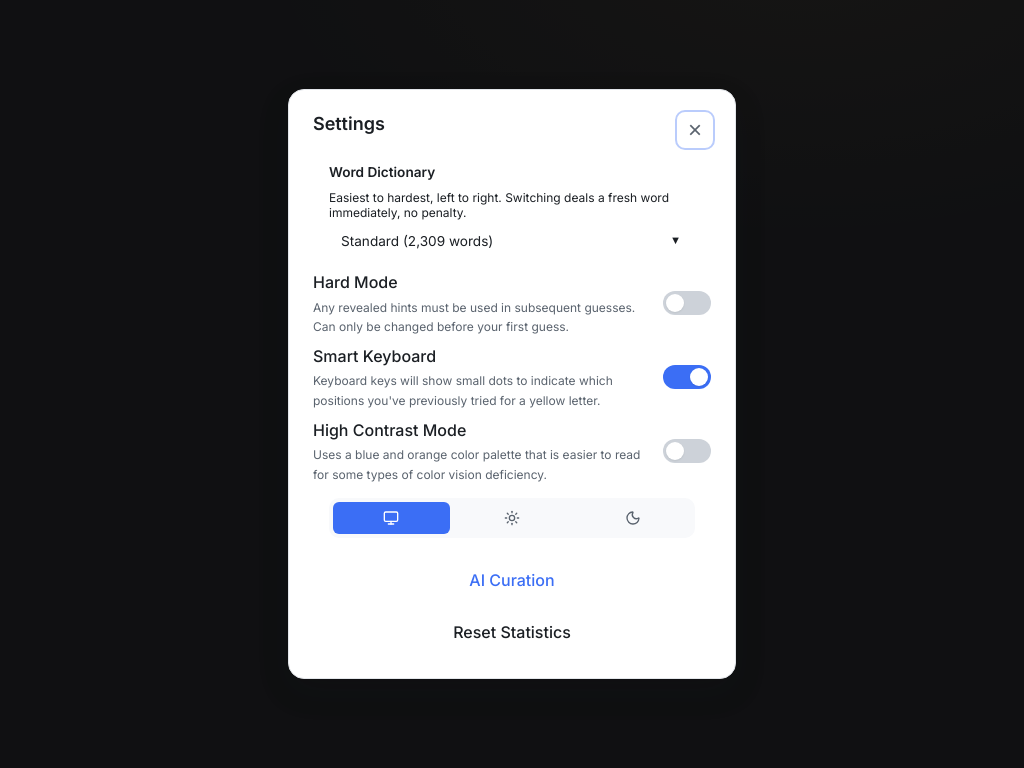
Test: Settings component › reports a curation timeout distinctly from a user cancel
Click the button "AI Curation" at (512, 580), box x1=444 y1=558 x2=580 y2=602
(page scrolled)
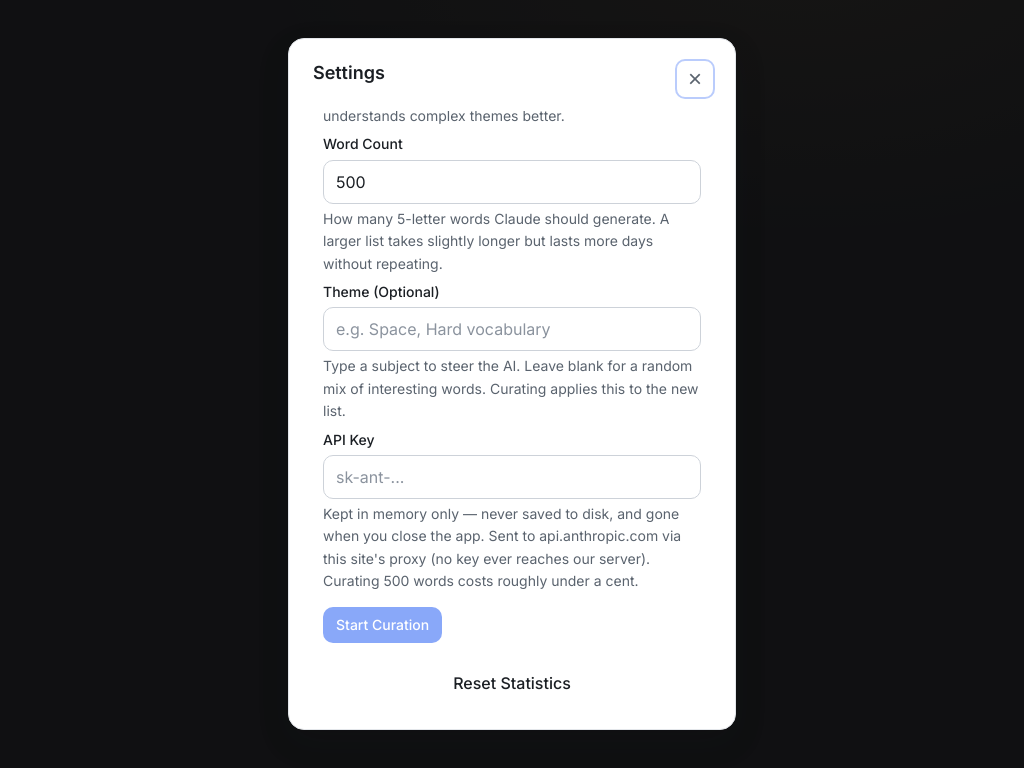
Type "sk-ant-test-key" into the password field with placeholder "sk-ant-..." at (512, 477), box x1=323 y1=455 x2=701 y2=499
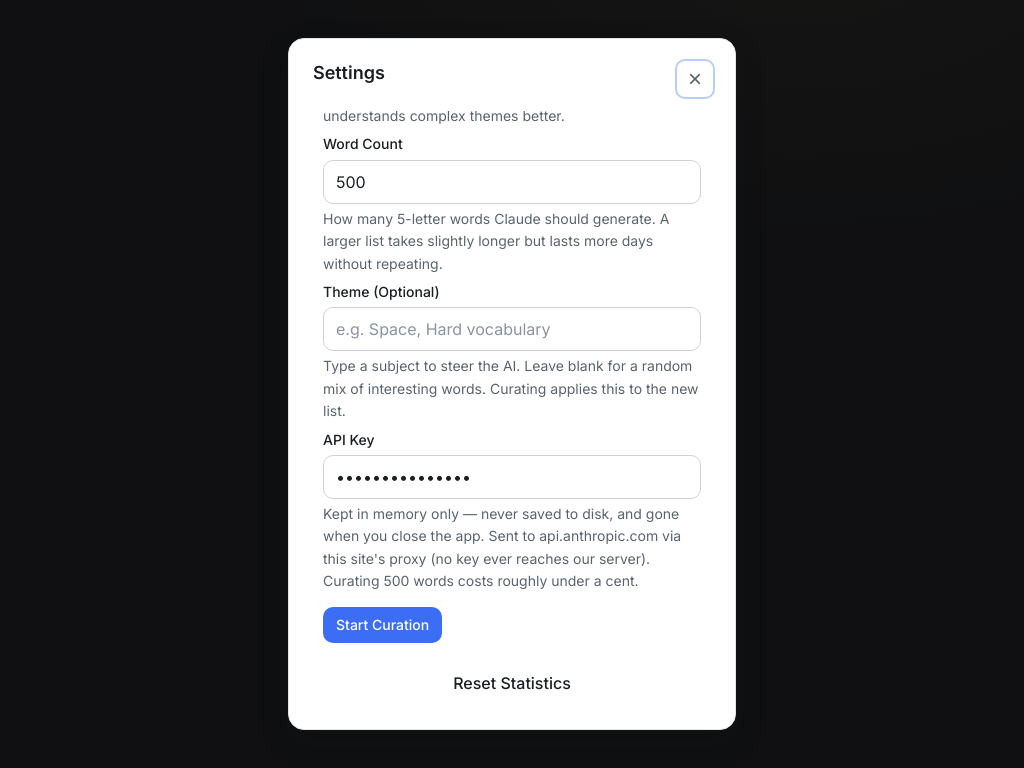
Click the button "Start Curation" at (383, 624), box x1=323 y1=606 x2=442 y2=642
Wait 30000 ms
(page scrolled)
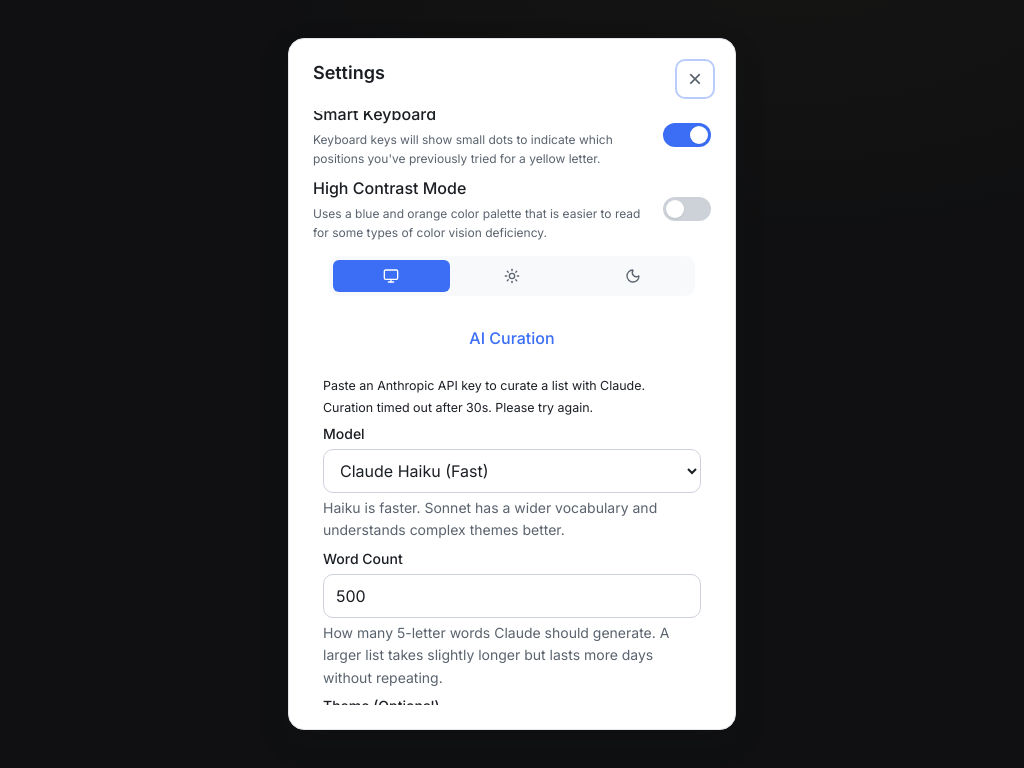
Result: the text "Curation timed out after 30s. Please try again." is shown at x1=323 y1=400 x2=593 y2=415
